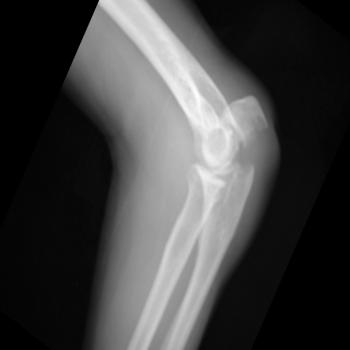Fracture: (224, 117, 276, 189)
